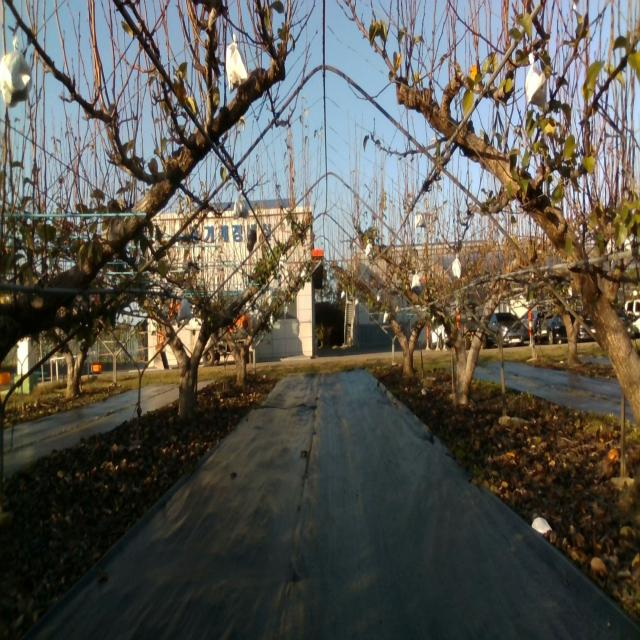pearbags: (0, 34, 37, 112), (524, 52, 548, 108), (226, 34, 248, 90), (232, 189, 250, 218), (176, 299, 193, 320), (414, 203, 426, 228)
